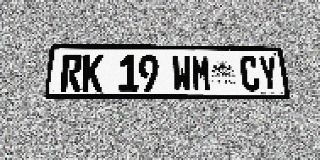1: (118, 55, 139, 91)
9: (139, 55, 159, 91)
C: (239, 56, 261, 91)
K: (81, 54, 104, 91)
M: (191, 55, 212, 91)
R: (60, 54, 83, 91)
W: (172, 55, 192, 91)
Y: (258, 56, 280, 91)
